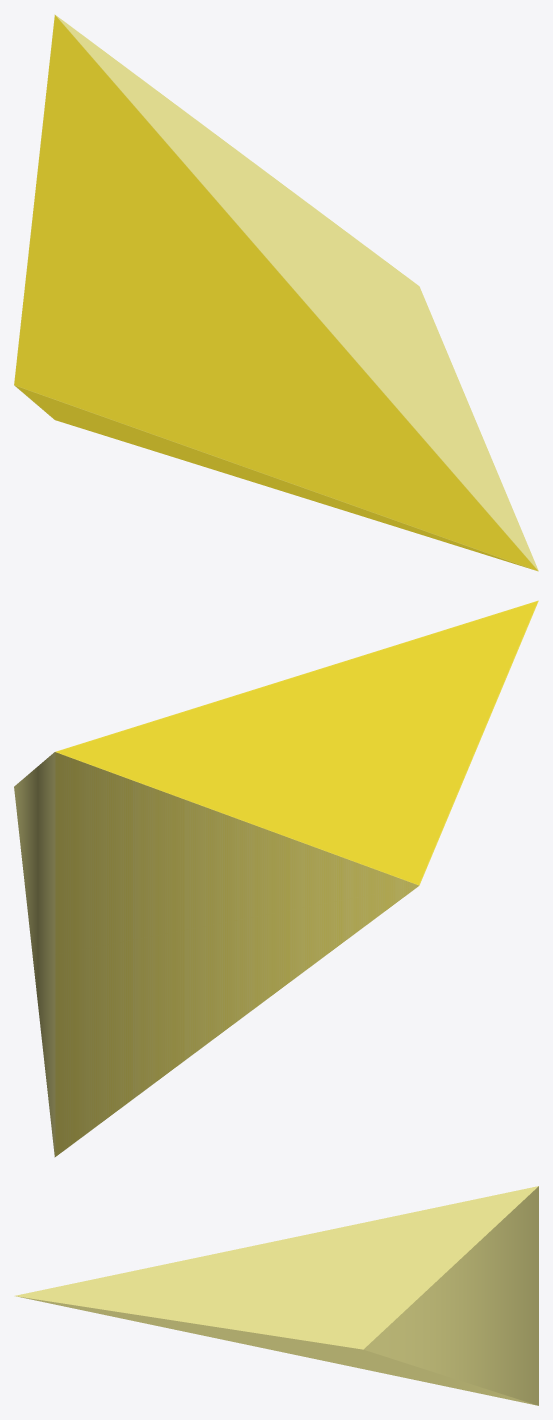
Rendered from StarPiece.fbx.
3 renders of one model, top to bottom at view 1: azimuth 30°, elevation 25°; view 2: azimuth 150°, elevation 25°; view 3: azimuth 270°, elevation 25°, orthographic. The views are drawn at different scales.
Visible parts, largest first — view 1: pCone8; view 2: pCone8; view 3: pCone8.
Boxes of the visible parts, left/top/right/bottom form: pCone8: left=14, top=14, right=538, bottom=571; pCone8: left=14, top=600, right=538, bottom=1157; pCone8: left=15, top=1186, right=538, bottom=1405.
Bounding box in the file's own units: 1.2 × 1.15 × 2.48.
Materials: 1 (1 with a texture image).
